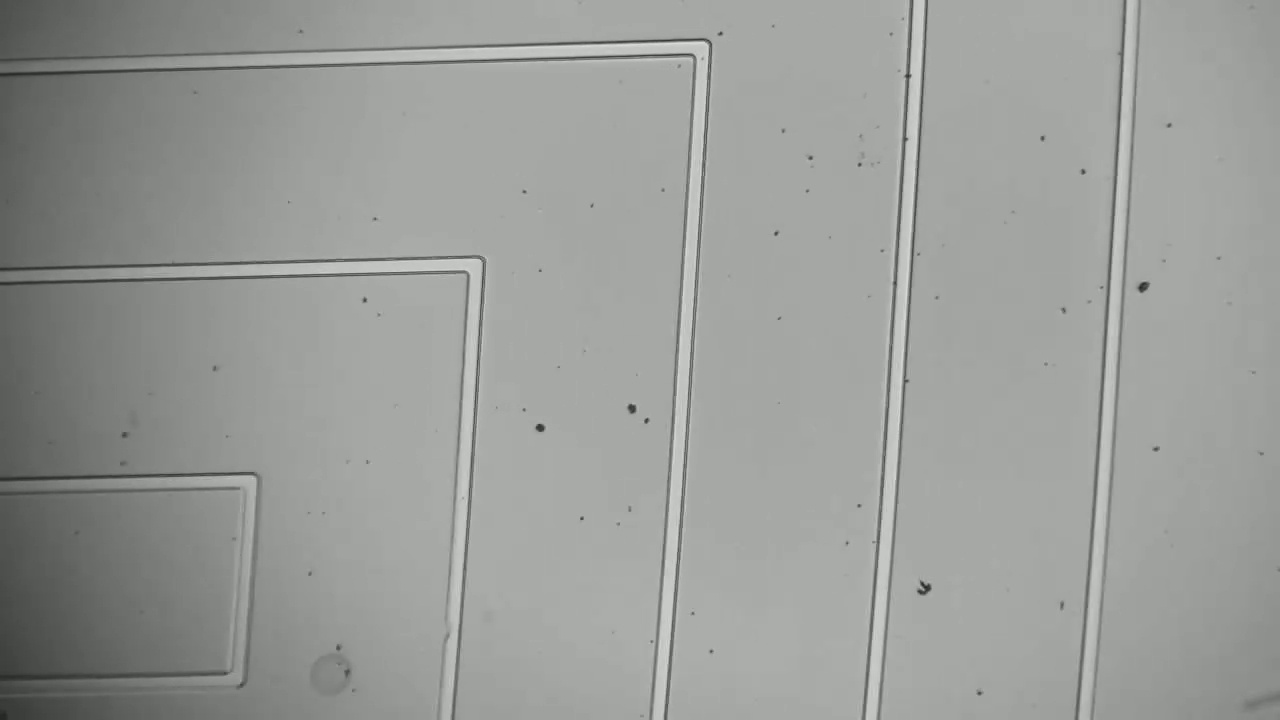edge_bite: (437, 614, 468, 653)
